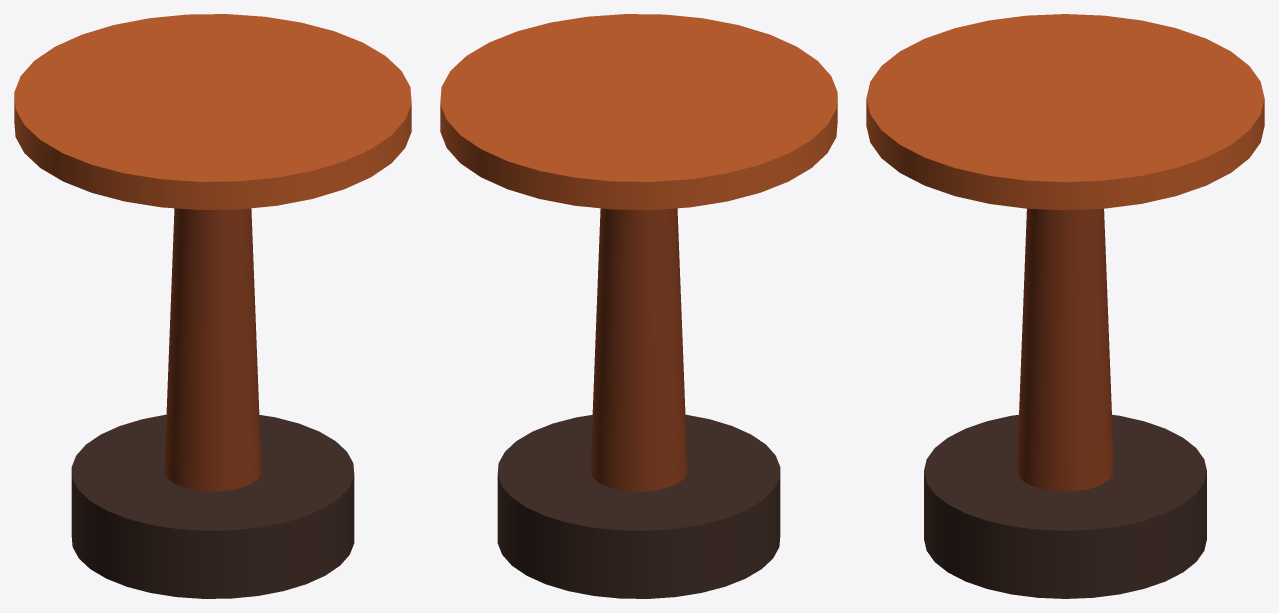
Rendered from demo-side-table-v1.glb.
3 views of the same model, side by side, from view 1: azimuth 30°, elevation 25°; view 2: azimuth 150°, elevation 25°; view 3: azimuth 270°, elevation 25° (orthographic).
Visible parts, largest first — view 1: top, base, stem; view 2: top, base, stem; view 3: top, base, stem.
Boxes of the visible parts, x1,y1,x2,y2 form: top: (14, 14, 411, 209); base: (71, 414, 354, 598); stem: (164, 208, 261, 491); top: (440, 14, 837, 209); base: (497, 414, 780, 598); stem: (590, 208, 687, 491); top: (866, 14, 1264, 210); base: (924, 414, 1206, 598); stem: (1017, 208, 1113, 491).
Size of the model in its own units: 0.45 by 0.55 by 0.45.
